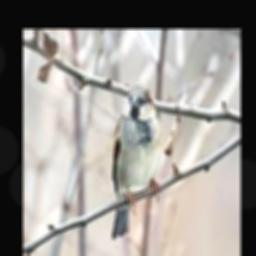Sparrow: (111, 84, 161, 239)
